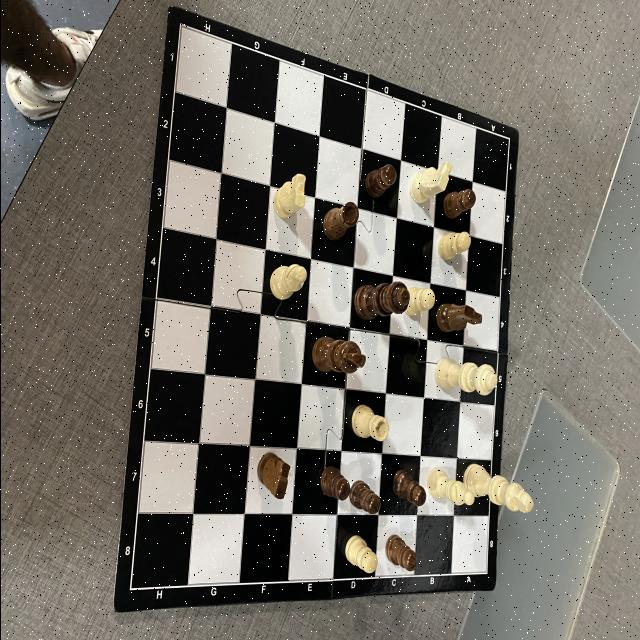Black-King: (310, 336, 366, 373)
Black-Knight: (257, 453, 289, 499), (437, 302, 481, 334)
Black-Pawn: (391, 468, 425, 506), (385, 536, 417, 572), (362, 166, 397, 196), (318, 468, 348, 501), (350, 482, 380, 514), (442, 190, 476, 218)
Black-Queen: (354, 282, 409, 318)
Black-Rook: (322, 202, 358, 240)
White-Bishop: (426, 466, 474, 508), (268, 264, 306, 300)
White-King: (462, 463, 534, 513)
White-Knight: (412, 162, 452, 204), (273, 174, 306, 218)
White-Pawn: (344, 536, 378, 574), (401, 284, 435, 314), (438, 230, 470, 260)
White-Queen: (433, 358, 497, 396)
White-Rook: (351, 406, 389, 442)
